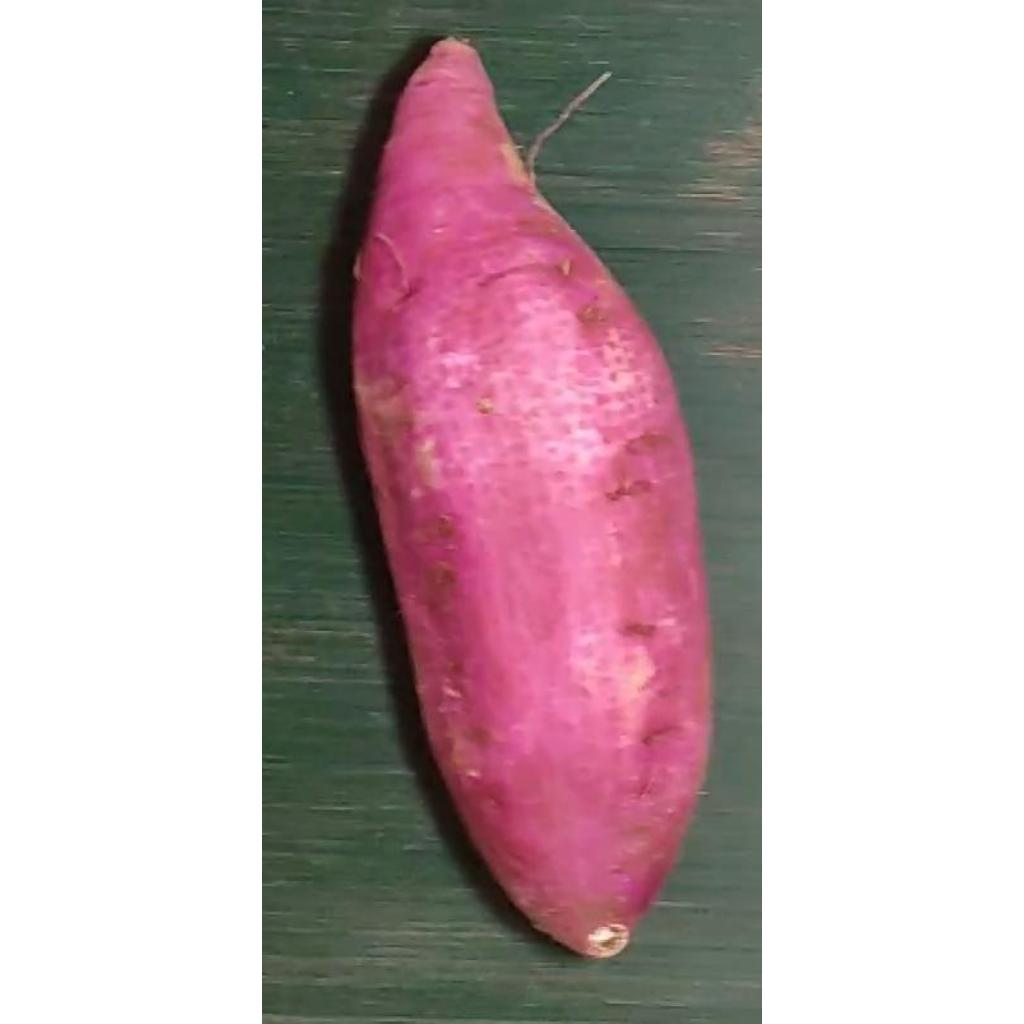Sweet Potato: (349, 37, 715, 964)
